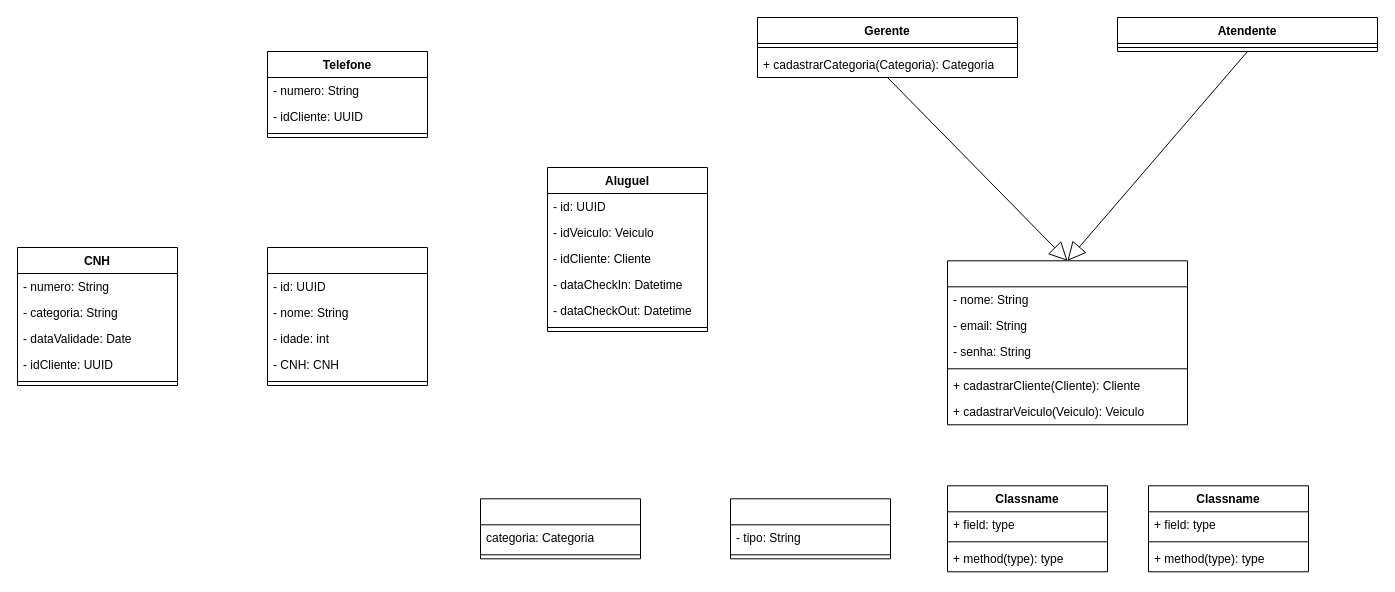
The diagram is 1395 pixels wide and 592 high, and some of its shapes have lost their labels. The shapes that lost their labels are listed below. From the top down, each one's box as (x1, y1, x2, y2) in pixels, then its label:
(266, 246, 428, 386): Cliente
(946, 260, 1188, 425): Usuário
(480, 498, 640, 559): Veiculo
(730, 498, 890, 559): Categoria
